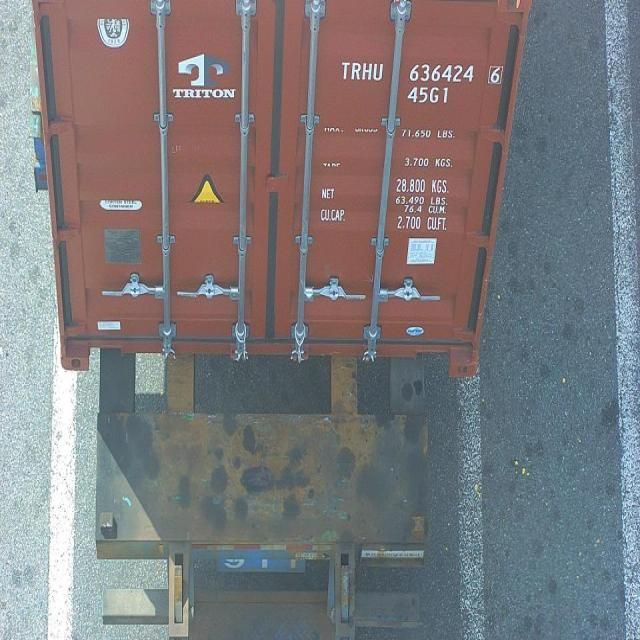ISO: (408, 88, 449, 106)
container_number: (341, 50, 502, 91)
